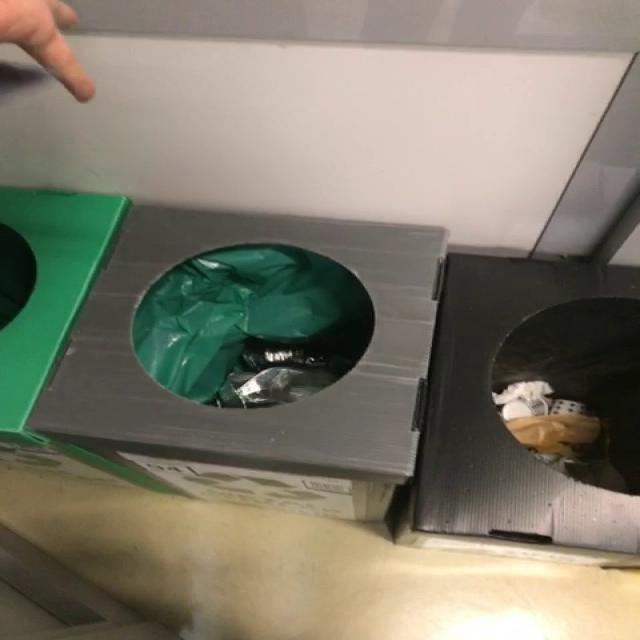Metal: (217, 367, 337, 408)
